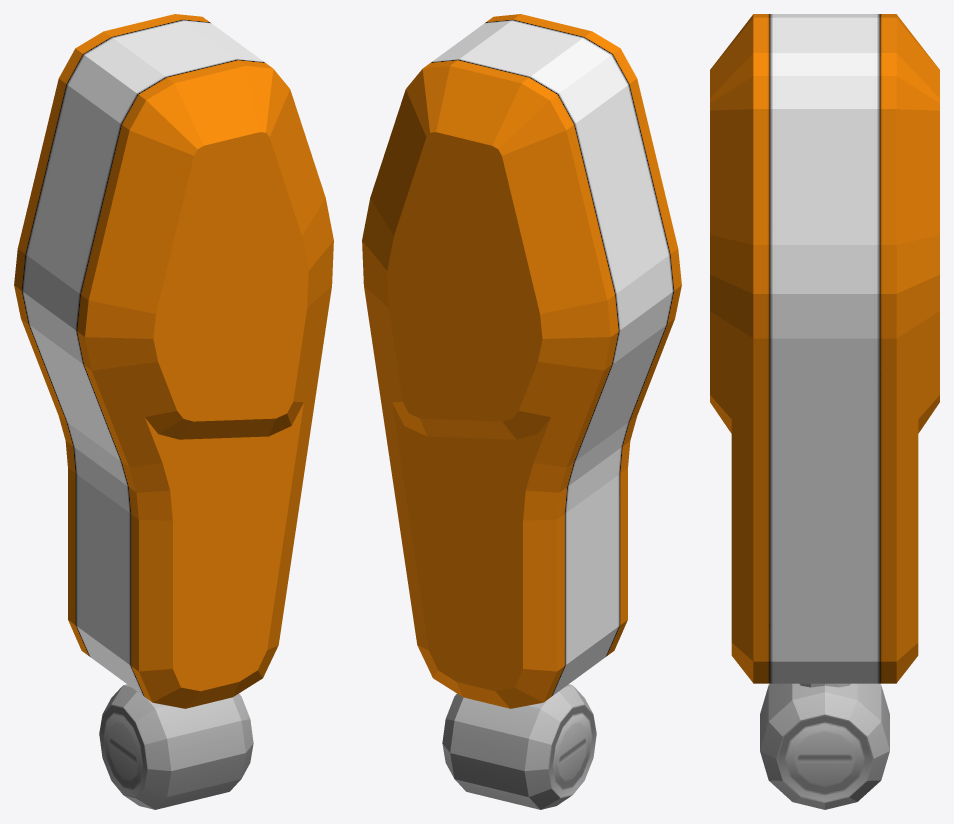
The model's file is R_KNEE_S.dae.
The picture shows the model from 3 angles, left to right: view 1: azimuth 30°, elevation 25°; view 2: azimuth 150°, elevation 25°; view 3: azimuth 270°, elevation 25°; orthographic projection.
Parts seen in each view (by area): view 1: root, root_001; view 2: root, root_001; view 3: root, root_001.
Boxes of the visible parts, x1,y1,x2,y2 form: root: (14,14,333,708); root_001: (99,684,253,809); root: (362,14,681,708); root_001: (442,684,596,809); root: (710,14,939,683); root_001: (760,683,889,809).
Bounding box in the file's own units: 0.1338 × 0.106 × 0.3845.
Materials: 2 (2 with a texture image).
